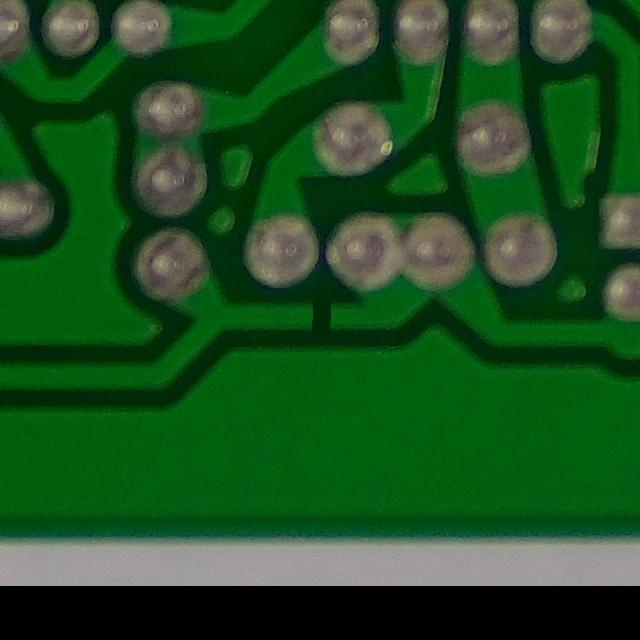open_circuit: (297, 298, 343, 342)
